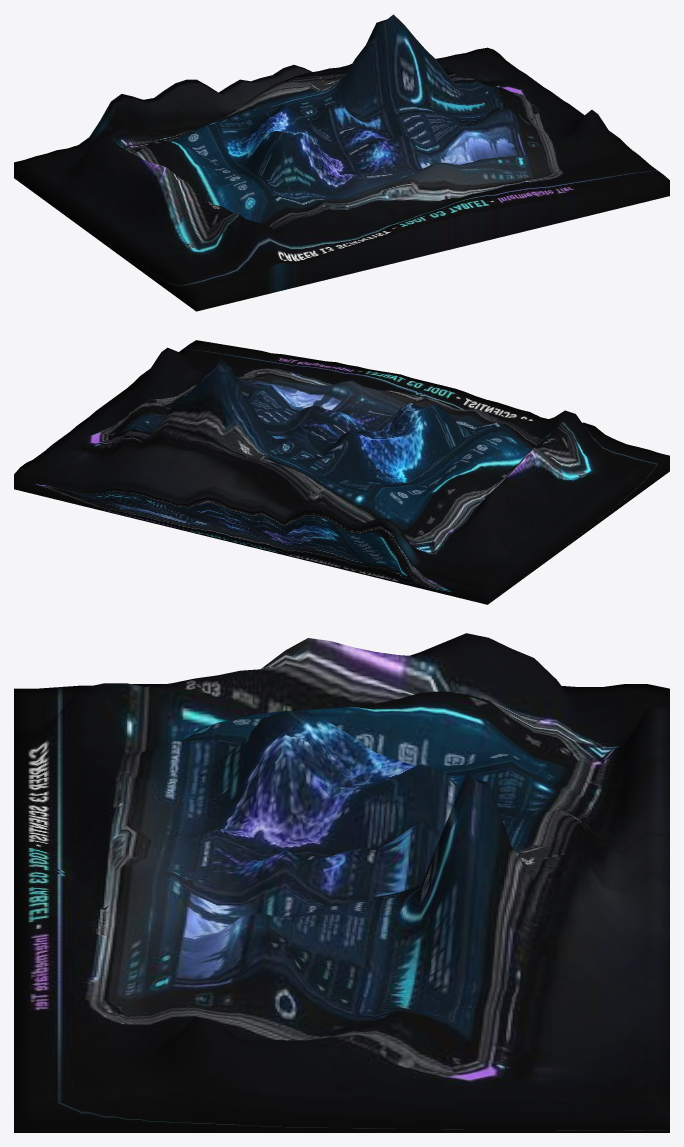
The model's file is CAREER_13_Tool_03_Tablet.glb.
3 renders of one model, top to bottom at view 1: azimuth 30°, elevation 25°; view 2: azimuth 150°, elevation 25°; view 3: azimuth 270°, elevation 25°, orthographic. The views are drawn at different scales.
Parts seen in each view (by area): view 1: CAREER_13_Tool_03_Tablet; view 2: CAREER_13_Tool_03_Tablet; view 3: CAREER_13_Tool_03_Tablet.
Part boxes in pixels (x1,y1,x2,y2): CAREER_13_Tool_03_Tablet: (14, 14, 669, 311); CAREER_13_Tool_03_Tablet: (14, 340, 669, 604); CAREER_13_Tool_03_Tablet: (14, 633, 669, 1132).
Size of the model in its own units: 2 by 0.51 by 1.33.
1 material, 1 textured.
